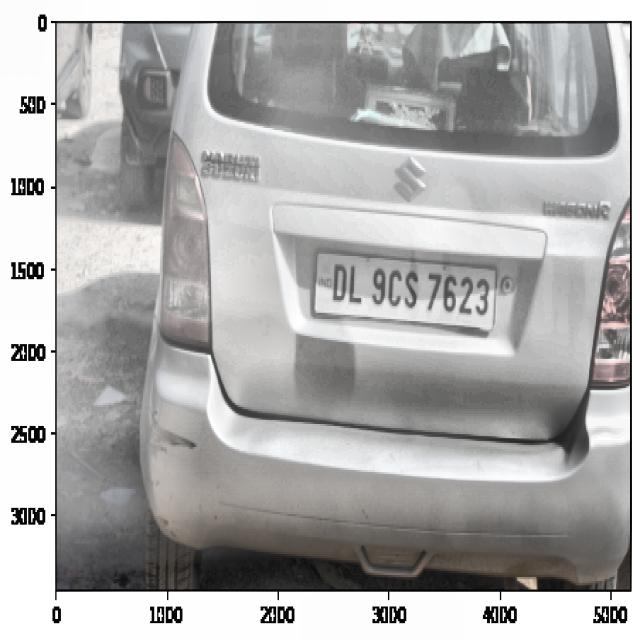license_plate: (328, 256, 494, 326)
